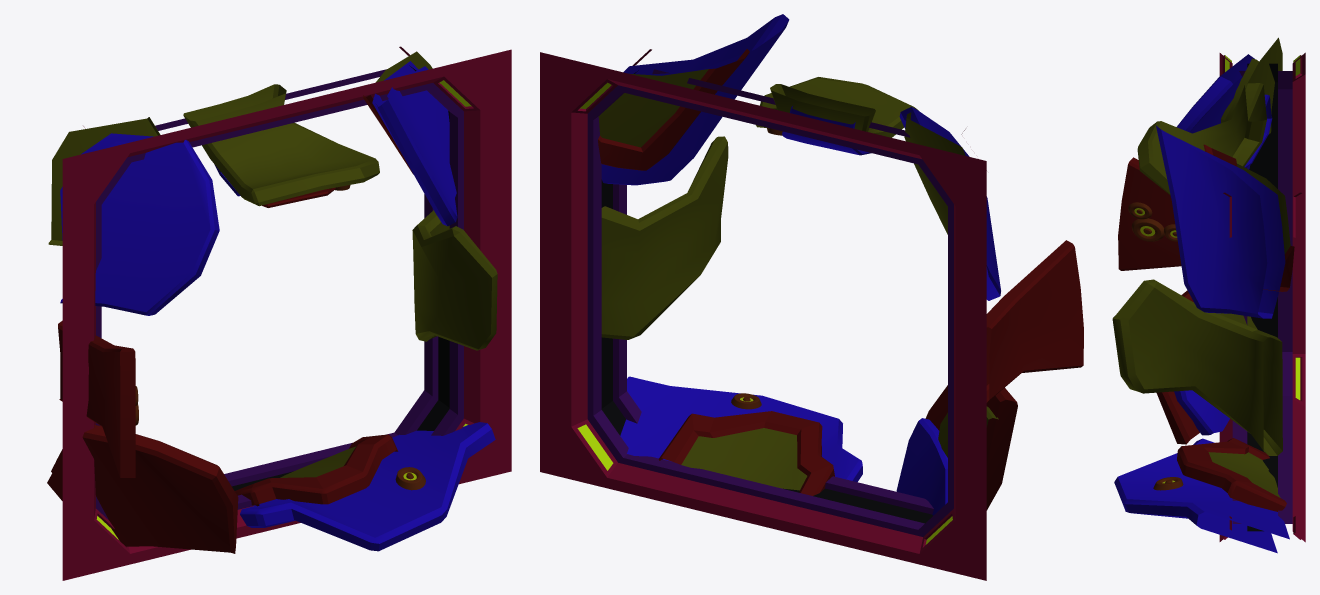
File: OBJ_Mur_Destructible_Detruit.fbx
3 views of the same model, side by side, from view 1: azimuth 30°, elevation 25°; view 2: azimuth 150°, elevation 25°; view 3: azimuth 270°, elevation 25° (orthographic). The views are drawn at different scales.
Parts seen in each view (by area): view 1: OBJ_Mur_Destructible_Detruit; view 2: OBJ_Mur_Destructible_Detruit; view 3: OBJ_Mur_Destructible_Detruit.
Part boxes in pixels (bbox=[...]): OBJ_Mur_Destructible_Detruit: bbox=[47, 46, 511, 580]; OBJ_Mur_Destructible_Detruit: bbox=[540, 14, 1083, 580]; OBJ_Mur_Destructible_Detruit: bbox=[1112, 37, 1305, 553].
Bounding box in the file's own units: 10.69 × 10.1 × 4.5.
